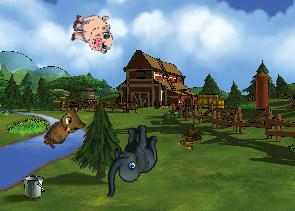elephant: (100, 123, 161, 197)
owl: (41, 103, 90, 157)
pig: (68, 10, 116, 55)
